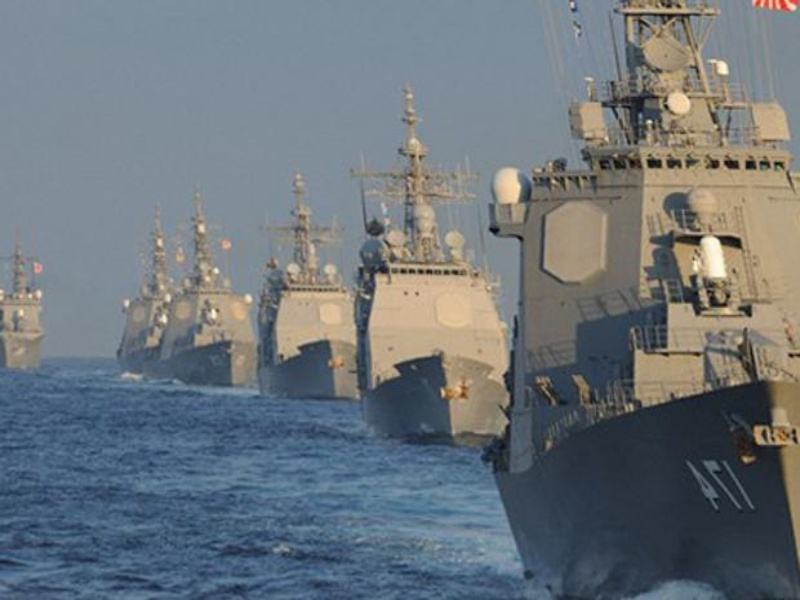cruise: (512, 81, 796, 598), (366, 115, 502, 442), (264, 178, 357, 415), (177, 219, 257, 391), (111, 210, 174, 384), (5, 241, 50, 379)
